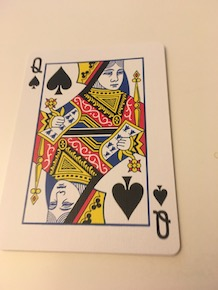QueenOfSpades: (4, 41, 187, 268)
